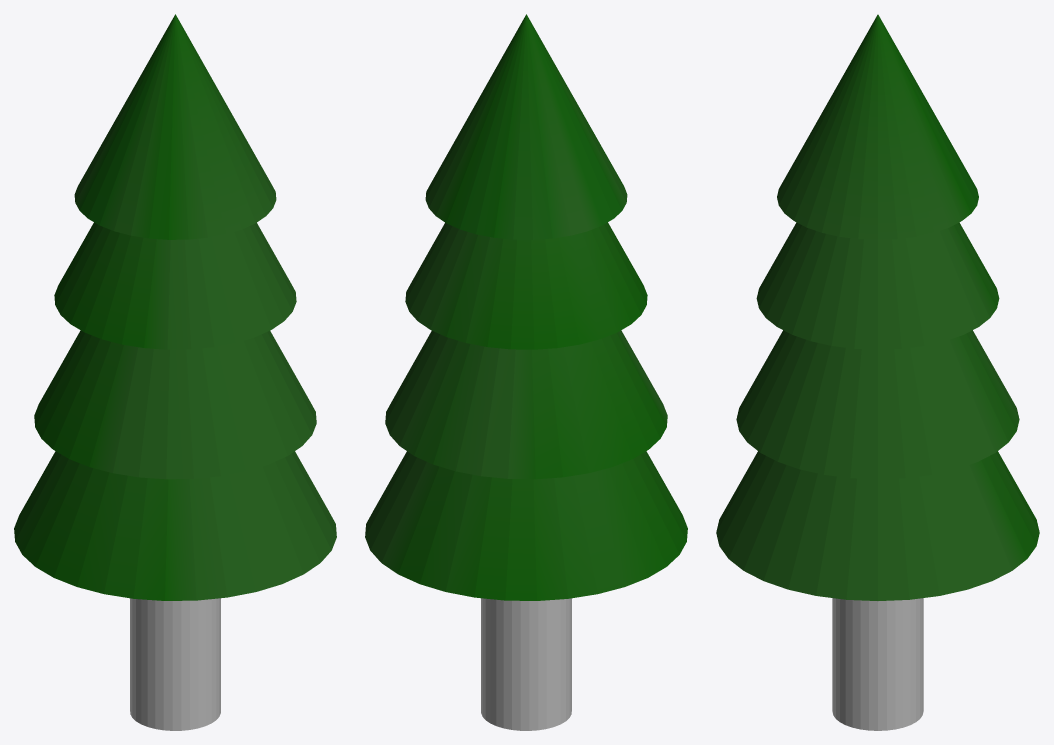
The model's file is tree.dae.
The picture shows the model from 3 angles, left to right: view 1: azimuth 30°, elevation 25°; view 2: azimuth 150°, elevation 25°; view 3: azimuth 270°, elevation 25°; orthographic projection.
Visible parts, largest first — view 1: Cone.003, Cone.002, Cone, Cone.001, Cylinder; view 2: Cone.003, Cone.002, Cone, Cone.001, Cylinder; view 3: Cone.003, Cone.002, Cone, Cone.001, Cylinder.
Part boxes in pixels (x1,y1,x2,y2): Cone.003: (14,451,336,600); Cone.002: (34,330,316,479); Cone: (74,14,276,239); Cone.001: (54,222,296,349); Cylinder: (130,598,220,730); Cone.003: (365,451,687,600); Cone.002: (385,330,667,479); Cone: (425,14,627,239); Cone.001: (405,222,647,349); Cylinder: (481,598,571,730); Cone.003: (716,451,1039,600); Cone.002: (736,330,1019,479); Cone: (777,14,978,239); Cone.001: (756,222,999,349); Cylinder: (832,598,923,730).
Bounding box in the file's own units: 3.2 × 3.2 × 7.61.
